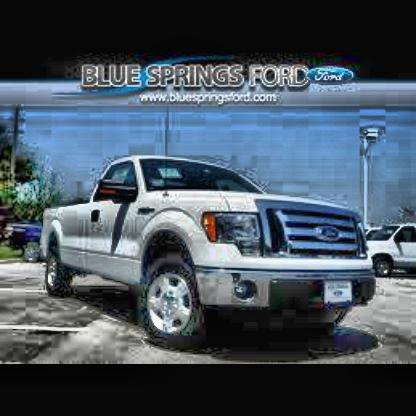Ford F-150 Regular Cab 2012: (43, 155, 378, 349)
